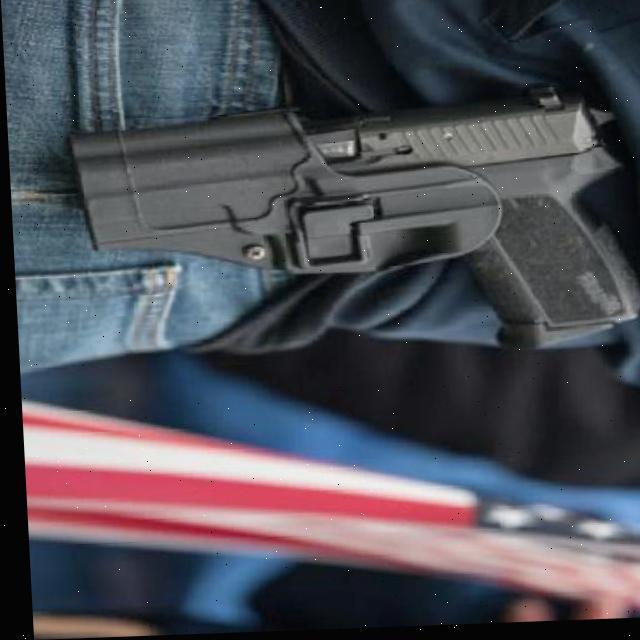gun: (39, 72, 640, 374)
